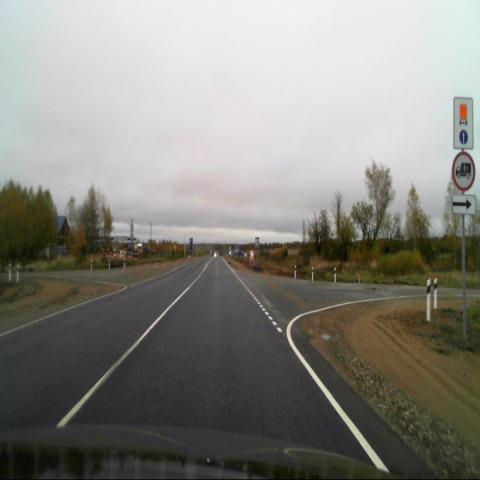3_4: (452, 153, 474, 190)
4_8_2: (453, 97, 474, 150)
8_3_1: (453, 195, 475, 213)
